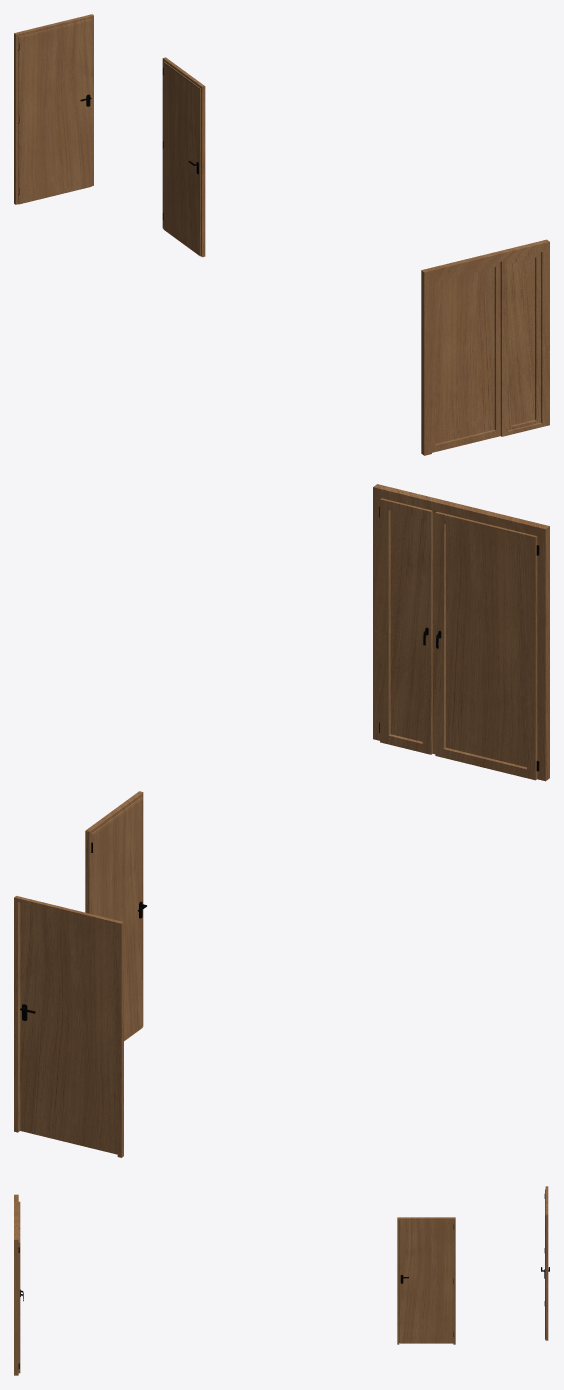
File: doors.gltf
The picture shows the model from 3 angles, top to bottom: view 1: azimuth 30°, elevation 25°; view 2: azimuth 150°, elevation 25°; view 3: azimuth 270°, elevation 25°; orthographic projection. The views are drawn at different scales.
Visible parts, largest first — view 1: Door02, Door01, Bathroom_door; view 2: Door02, Door01, Bathroom_door; view 3: Bathroom_door, Door02, Door01.
Part boxes in pixels (bbox=[...]): Door02: bbox=[421, 239, 549, 455]; Door01: bbox=[14, 14, 93, 204]; Bathroom_door: bbox=[162, 57, 205, 257]; Door02: bbox=[373, 484, 549, 781]; Door01: bbox=[14, 896, 123, 1157]; Bathroom_door: bbox=[85, 791, 143, 1041]; Bathroom_door: bbox=[397, 1217, 455, 1344]; Door02: bbox=[14, 1194, 20, 1375]; Door01: bbox=[545, 1186, 548, 1340].
Bounding box in the file's own units: 2.26 × 2.26 × 8.09.
Materials: 2 (1 with a texture image).
